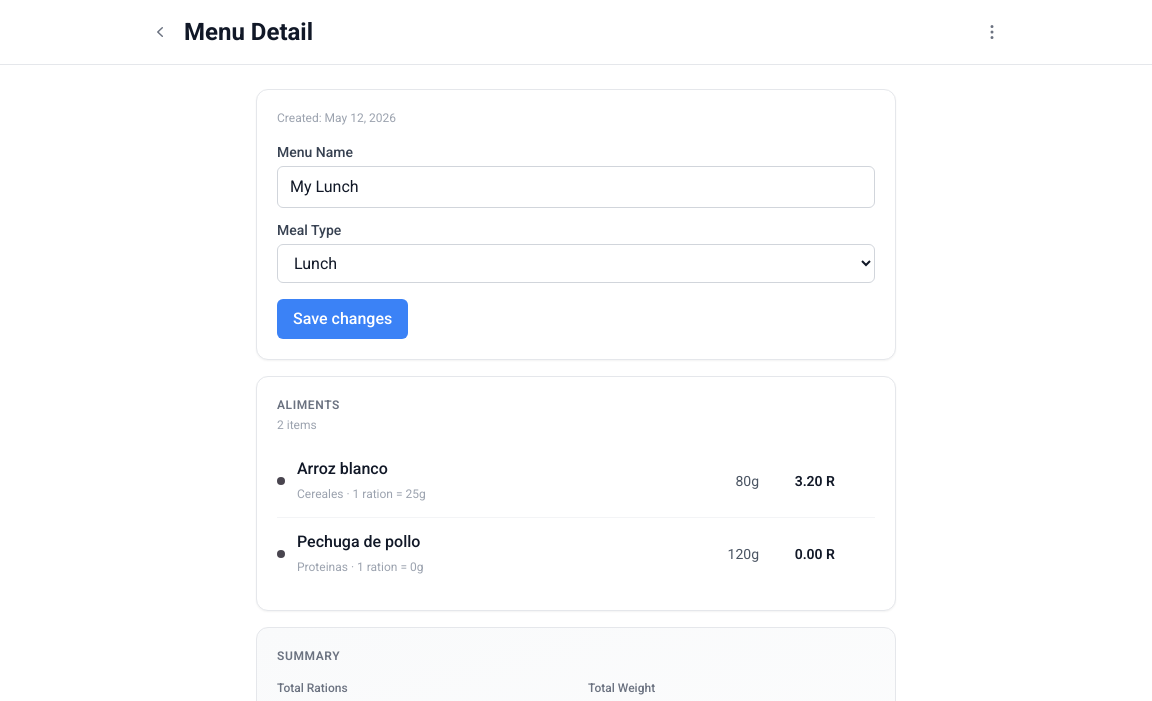
MenuDetailPage — edit name and type (T017) › shows validation error when name is empty
The width and height of the screenshot is (1152, 701).
Clear the field showing "My Lunch" at [576, 187], box [277,166,875,208]
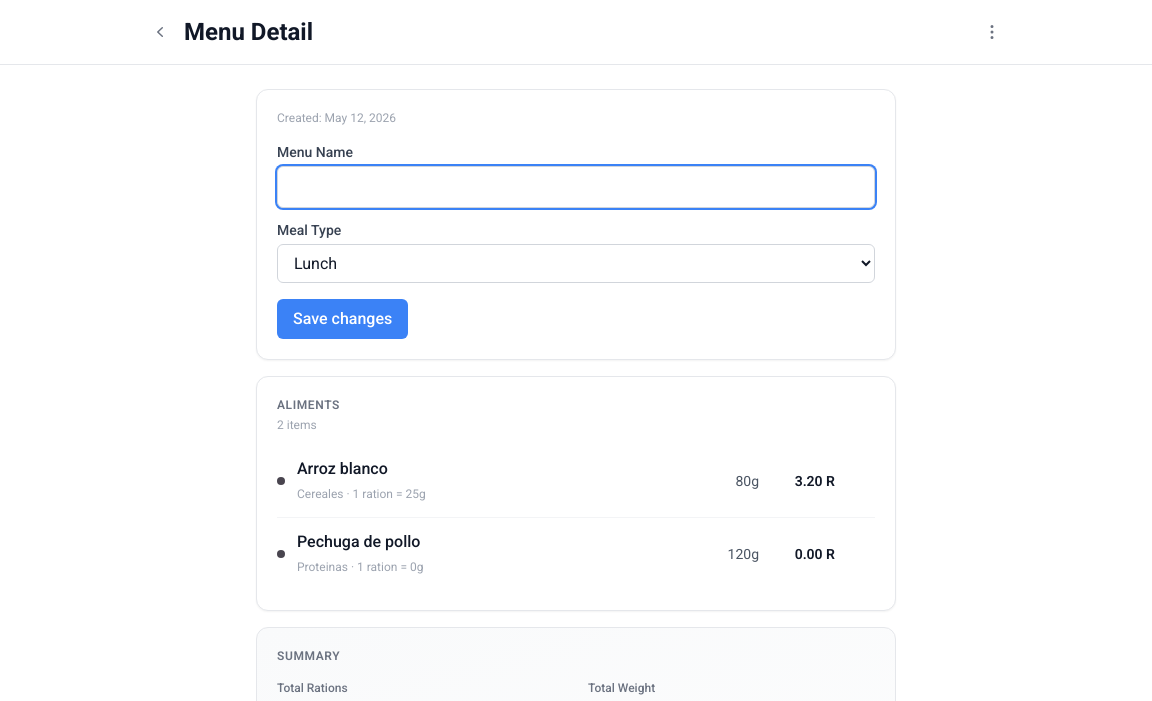
Click the button "Save changes" at [343, 319], box [277,299,408,339]
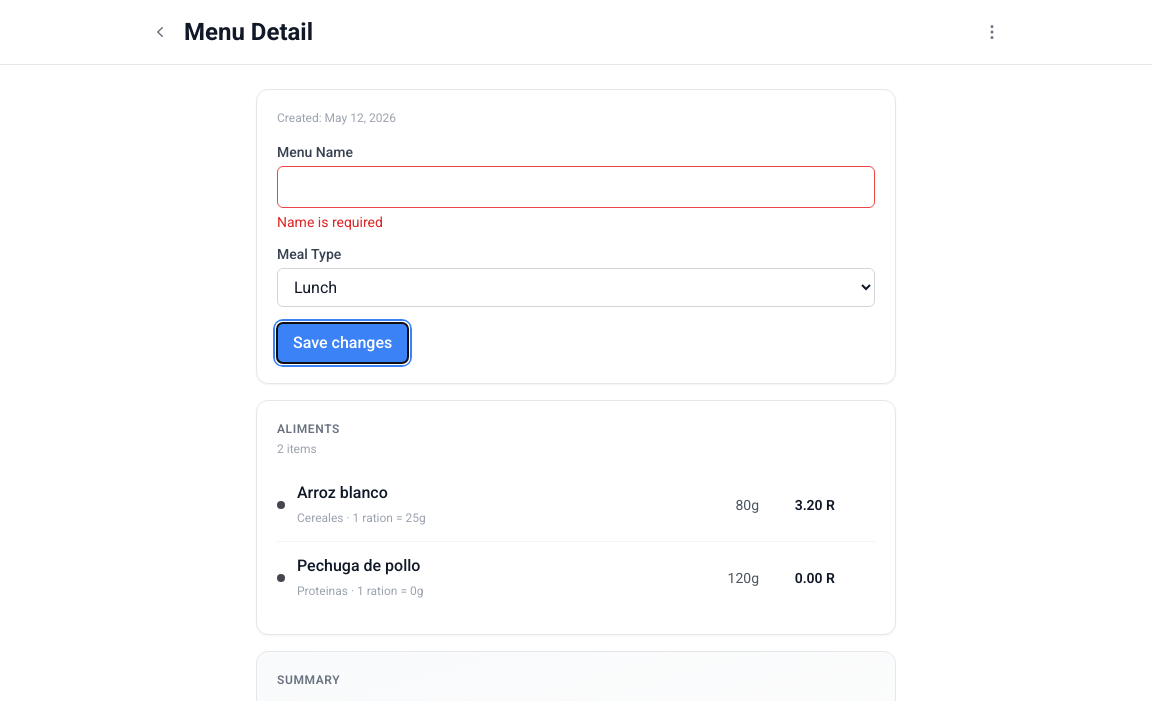
Expected: the text "Name is required" is shown, [277,214,383,230]
